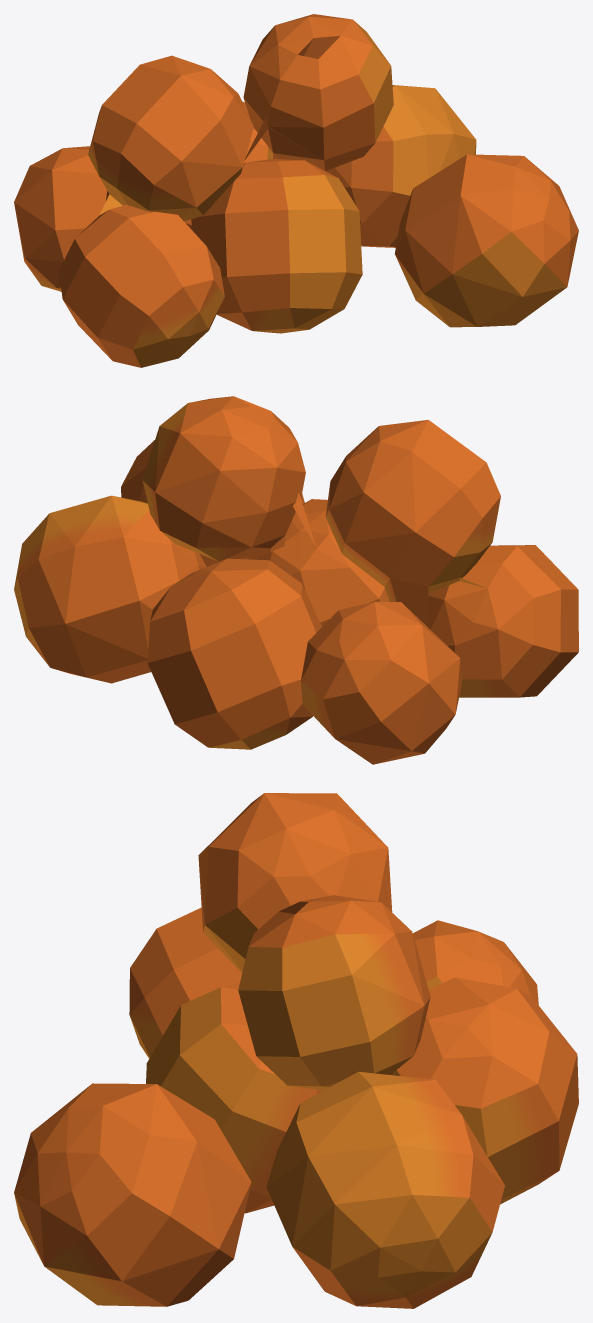
The model's file is Piile of Orange Peppers.fbx.
3 renders of one model, top to bottom at view 1: azimuth 30°, elevation 25°; view 2: azimuth 150°, elevation 25°; view 3: azimuth 270°, elevation 25°, orthographic. The views are drawn at different scales.
Parts seen in each view (by area): view 1: Piile of Orange Peppers; view 2: Piile of Orange Peppers; view 3: Piile of Orange Peppers.
Part boxes in pixels (x1,y1,x2,y2): Piile of Orange Peppers: (14,14,578,367); Piile of Orange Peppers: (14,396,578,764); Piile of Orange Peppers: (14,793,578,1308).
Bounding box in the file's own units: 21.93 × 12.67 × 18.42.
